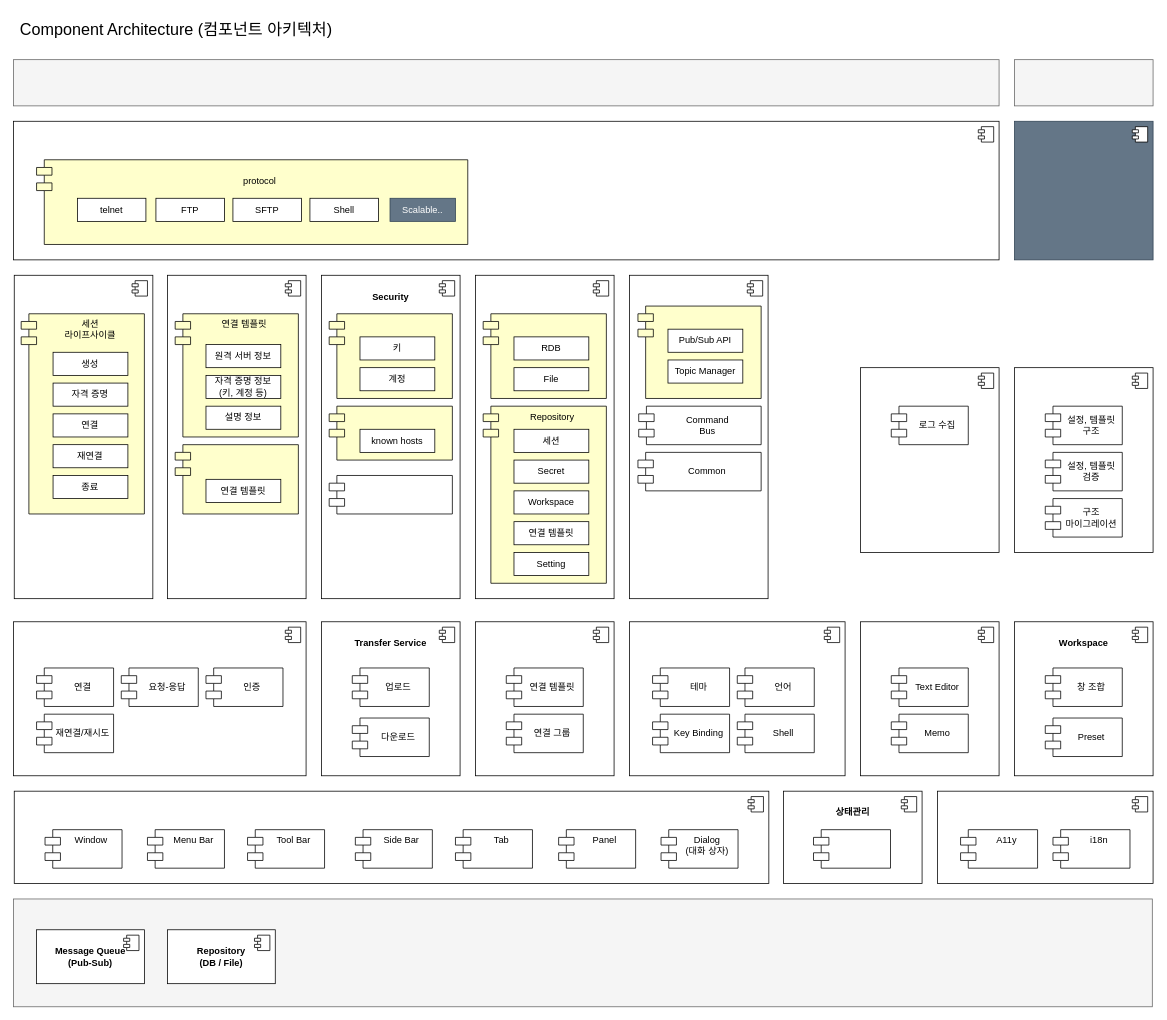
Image size: 1167x1020. Some labels were removed from this diagram. The box of each missing label's shape, as (x1, y1, x2, y2) in pixels:
Browser: (1014, 121, 1153, 260)
Connection Service: (13, 621, 306, 776)
Connection Template: (167, 275, 306, 599)
CRUD Interface: (482, 313, 606, 398)
Event Bus: (637, 305, 761, 398)
Feature Extension: (860, 621, 999, 776)
Infra: (13, 898, 1152, 1007)
Internet: (1014, 59, 1153, 106)
Logging and Monitoring: (860, 367, 999, 552)
Message Bus: (629, 275, 768, 599)
MVVM / Redux-like / ...: (813, 829, 891, 868)
Presentation (UI): (13, 790, 769, 884)
Protocol Adapter Plugin: (13, 121, 999, 260)
Remote Server: (13, 59, 999, 106)
Schema & Migration: (1014, 367, 1153, 552)
Secret Manager: (328, 313, 452, 398)
Session: (13, 275, 153, 599)
Settings: (629, 621, 845, 776)
Storage: (475, 275, 614, 599)
암호화: (328, 475, 452, 514)
연결 템플릿 서비스: (475, 621, 614, 776)
연결 텝플릿 그룹: (174, 444, 298, 514)
접근성: (937, 790, 1153, 884)
호스트 검증: (328, 405, 452, 460)
